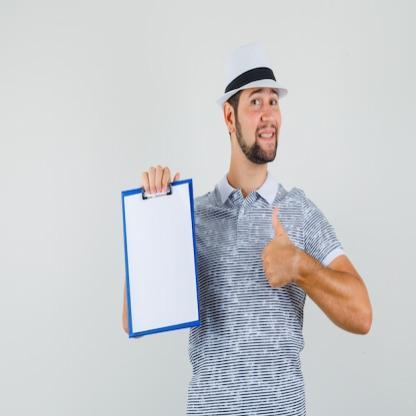thumb_up: (260, 204, 298, 292)
